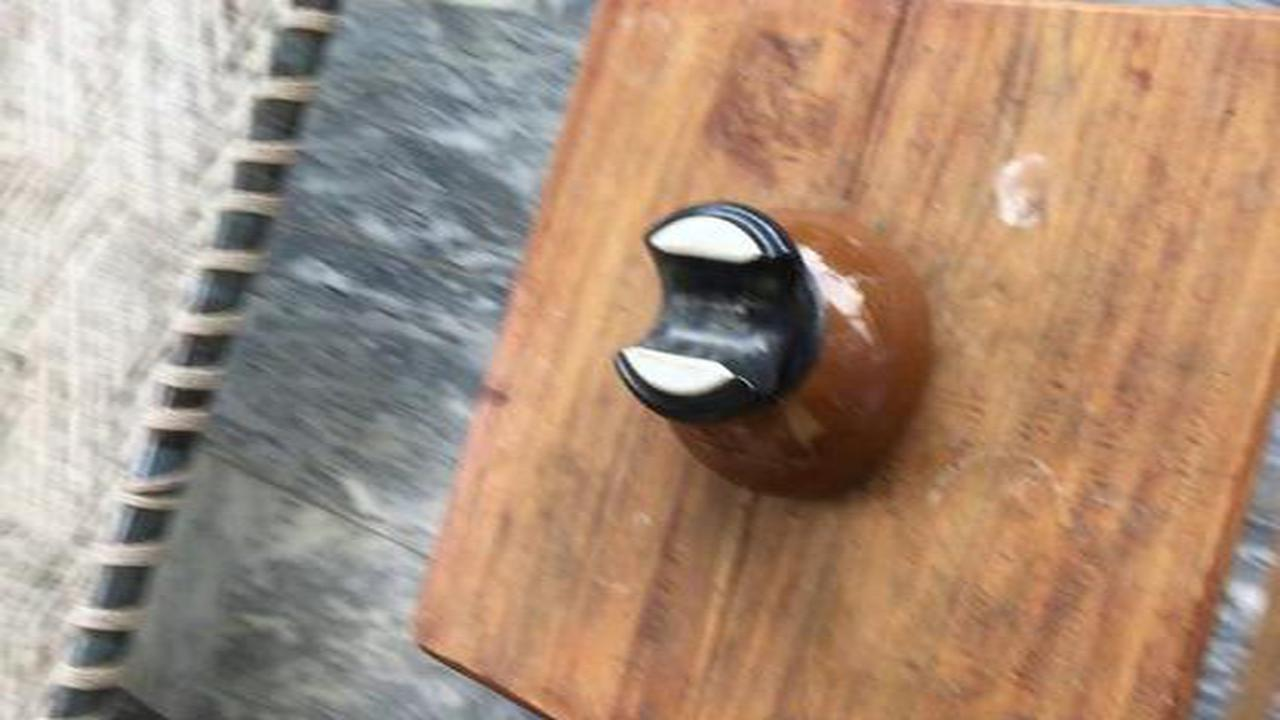insulator_pin: (585, 184, 967, 511)
